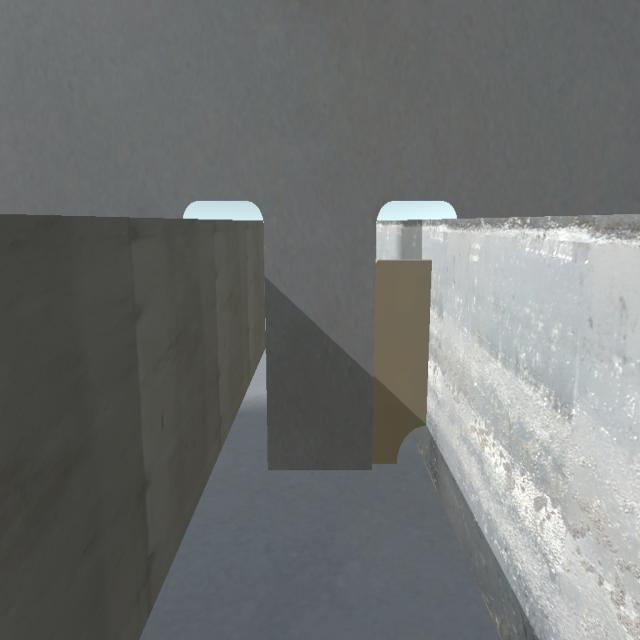fillet_hole: (396, 425, 428, 472)
fillet_yong_jeop_jang: (266, 458, 406, 474)
longi_yong_jeop_jang: (419, 257, 442, 429)
plate_behind: (375, 260, 433, 466)
